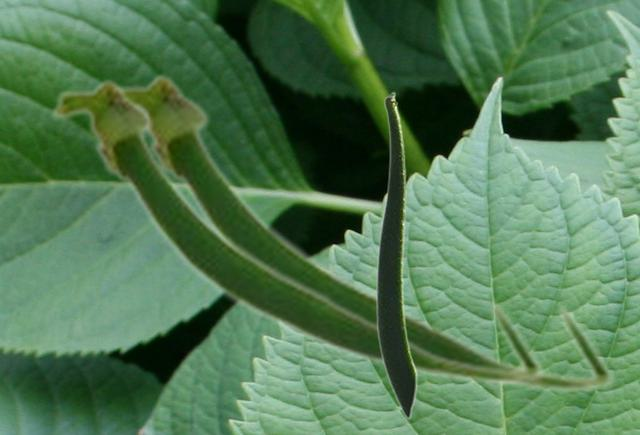french_bean: (119, 69, 616, 395), (48, 74, 545, 387), (375, 91, 417, 419)
